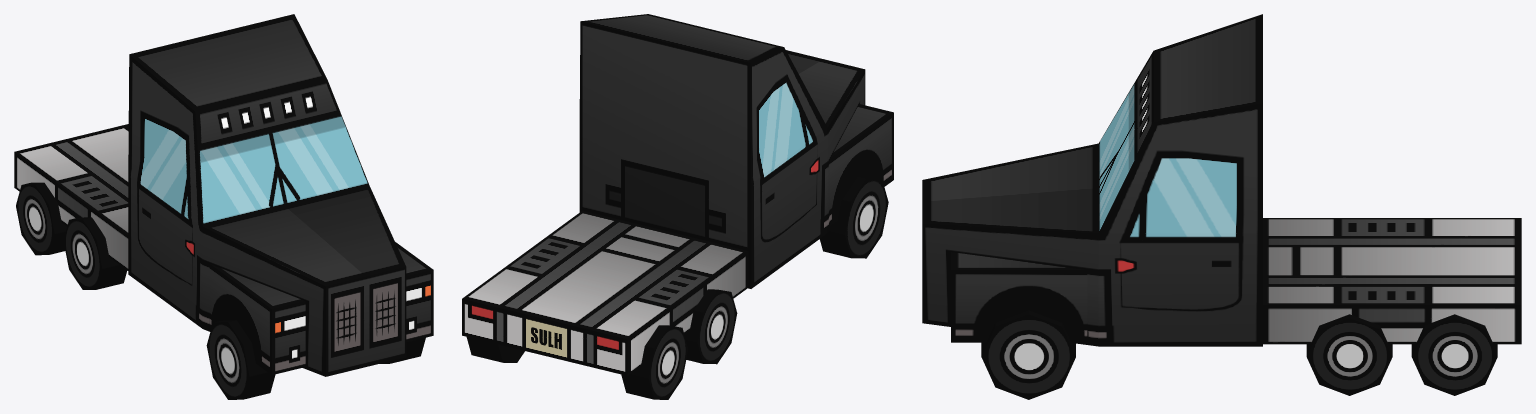
File: car15_9.gltf
3 views of the same model, side by side, from view 1: azimuth 30°, elevation 25°; view 2: azimuth 150°, elevation 25°; view 3: azimuth 270°, elevation 25° (orthographic). The views are drawn at different scales.
Visible parts, largest first — view 1: Cylinder.002; view 2: Cylinder.002; view 3: Cylinder.002.
Boxes of the visible parts, x1,y1,x2,y2 form: Cylinder.002: (14, 14, 433, 399); Cylinder.002: (462, 14, 893, 399); Cylinder.002: (922, 14, 1521, 399).
Bounding box in the file's own units: 3.46 × 4.96 × 9.16.
1 material, 1 textured.
